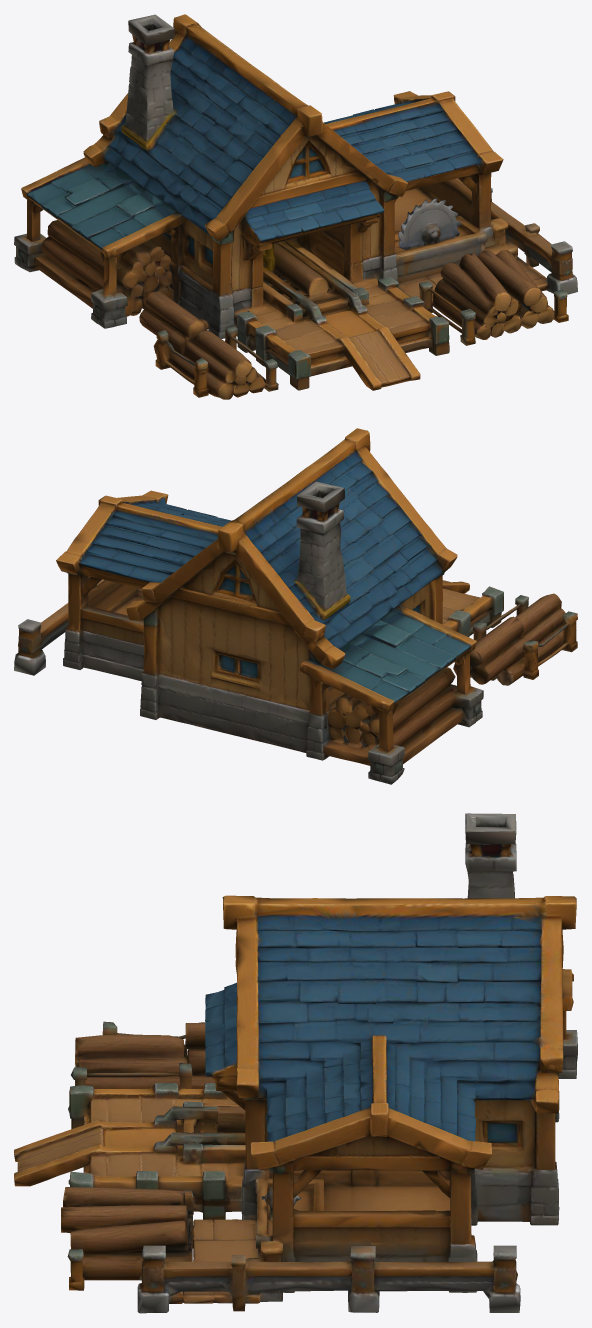
Rendered from sawmill.glb.
The picture shows the model from 3 angles, top to bottom: view 1: azimuth 30°, elevation 25°; view 2: azimuth 150°, elevation 25°; view 3: azimuth 270°, elevation 25°; orthographic projection. The views are drawn at different scales.
Parts seen in each view (by area): view 1: tripo_node_5b882c01-994d-4230-8fa8-641e94749f0e; view 2: tripo_node_5b882c01-994d-4230-8fa8-641e94749f0e; view 3: tripo_node_5b882c01-994d-4230-8fa8-641e94749f0e.
Part boxes in pixels (x1=…): tripo_node_5b882c01-994d-4230-8fa8-641e94749f0e: x1=14, y1=14, x2=577, y2=399; tripo_node_5b882c01-994d-4230-8fa8-641e94749f0e: x1=14, y1=428, x2=577, y2=784; tripo_node_5b882c01-994d-4230-8fa8-641e94749f0e: x1=14, y1=813, x2=577, y2=1313.
Bounding box in the file's own units: 1 × 0.5895 × 0.955.
1 material, 1 textured.
